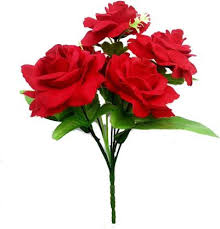lale: (8, 35, 119, 125), (104, 49, 180, 135), (131, 22, 208, 85), (75, 0, 150, 53)
